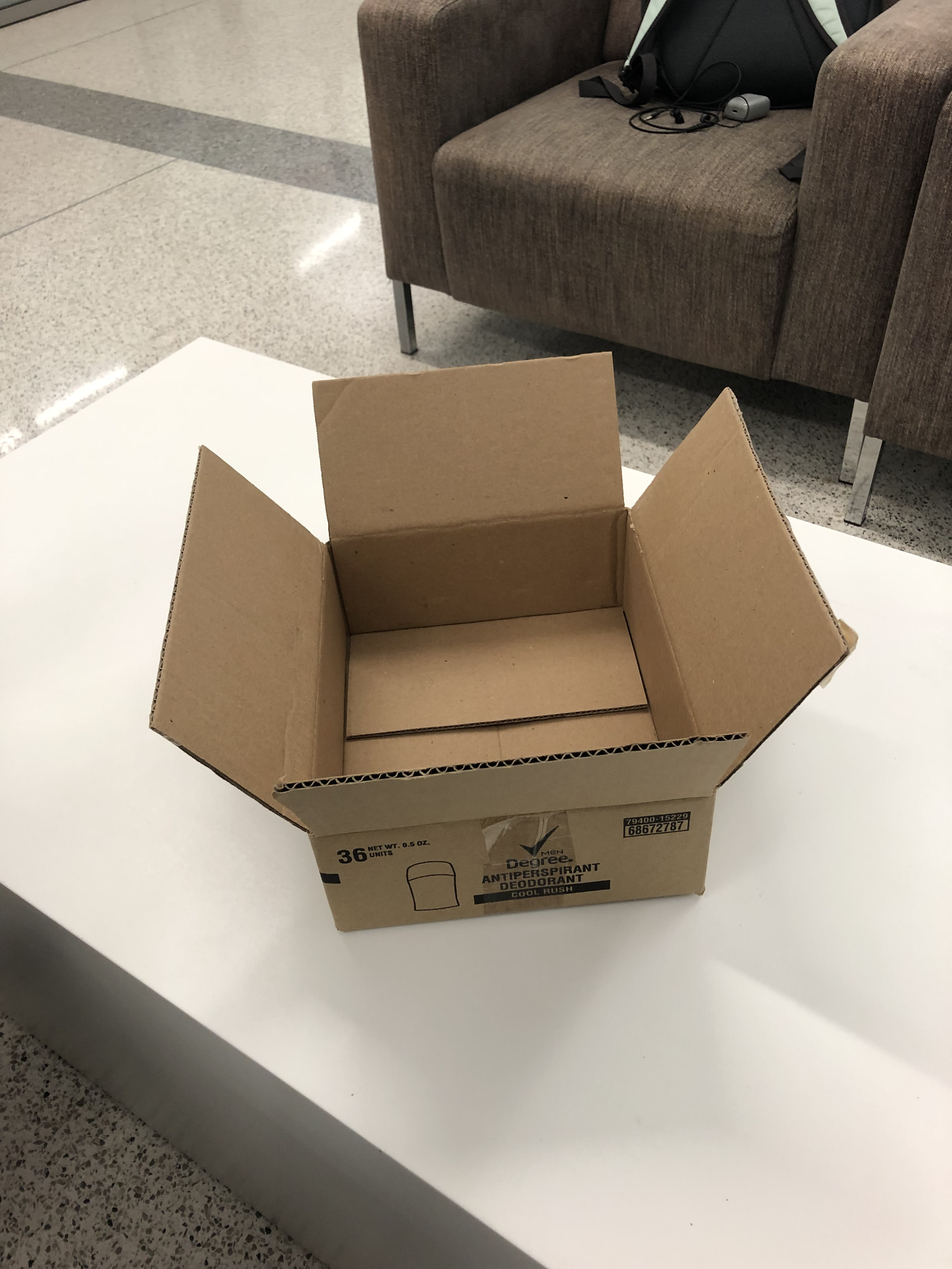box: (148, 345, 852, 942)
crushed: (149, 348, 855, 843)
